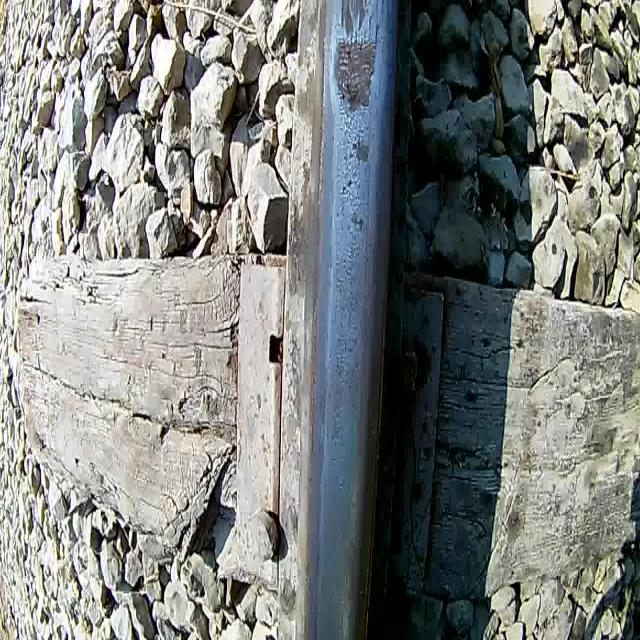Spallings: (333, 38, 377, 111)
Squats: (326, 36, 383, 120), (326, 0, 384, 37), (348, 136, 374, 168), (348, 208, 368, 237)
